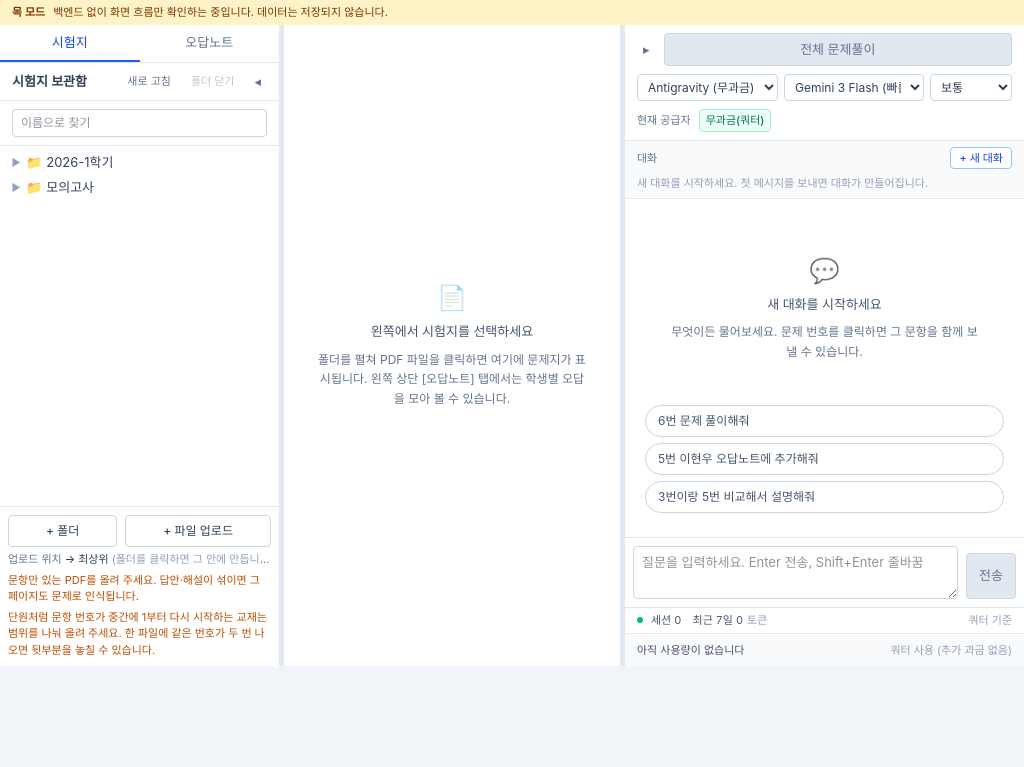
Test: agy provider 모델 선택 (목: agy 시나리오) › API 키로 바꾸면 과금 안내가 뜬다
Expected: the text "2026-1학기" is shown, x1=46 y1=154 x2=114 y2=170
Select "API 키 (Claude)" in the dropdown named "공급자 선택" at (708, 88), box x1=637 y1=74 x2=778 y2=101
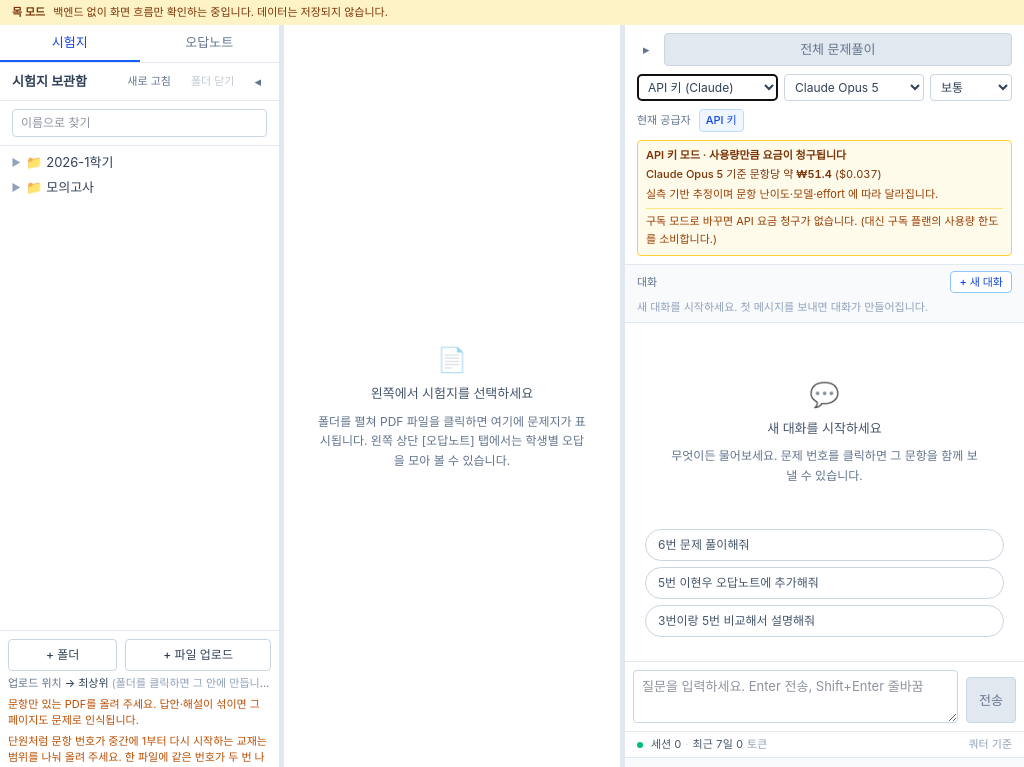
Result: the element that starts with "API 키 모드 · 사용량만큼 요금이 청구됩니다" is shown at x1=637 y1=140 x2=1012 y2=256
